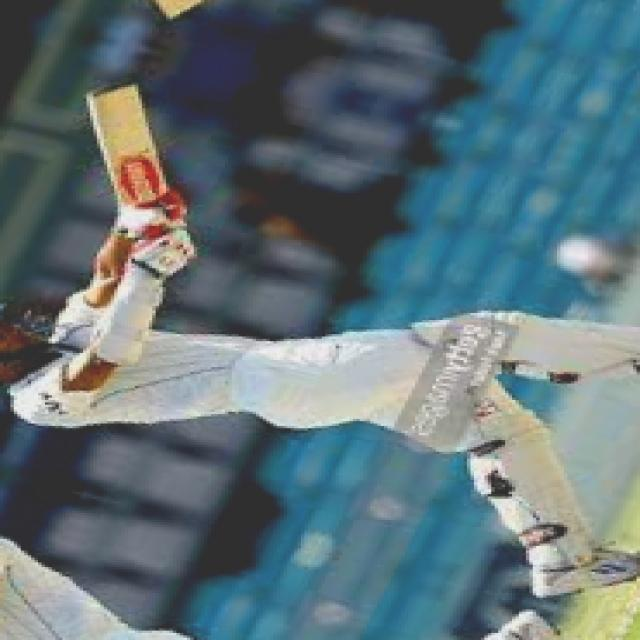toe: (73, 76, 150, 102)
